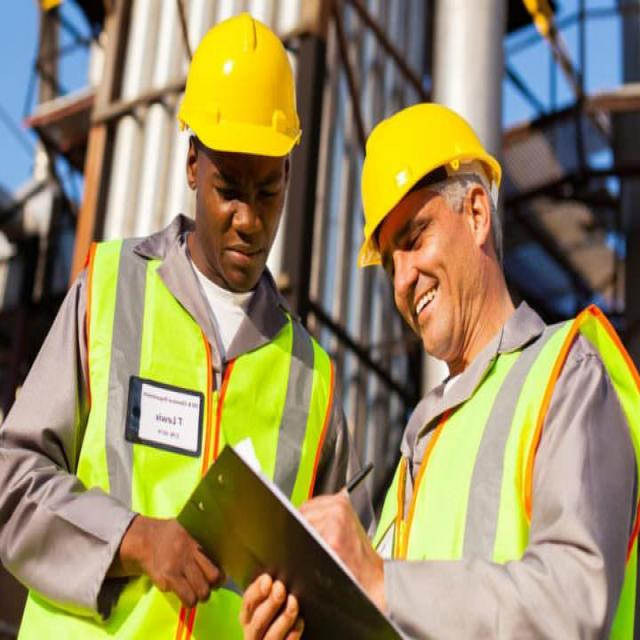Reflective-Jacket: (27, 233, 340, 636), (368, 310, 639, 634)
Safety-Helmet: (352, 92, 506, 263), (174, 11, 302, 164)
